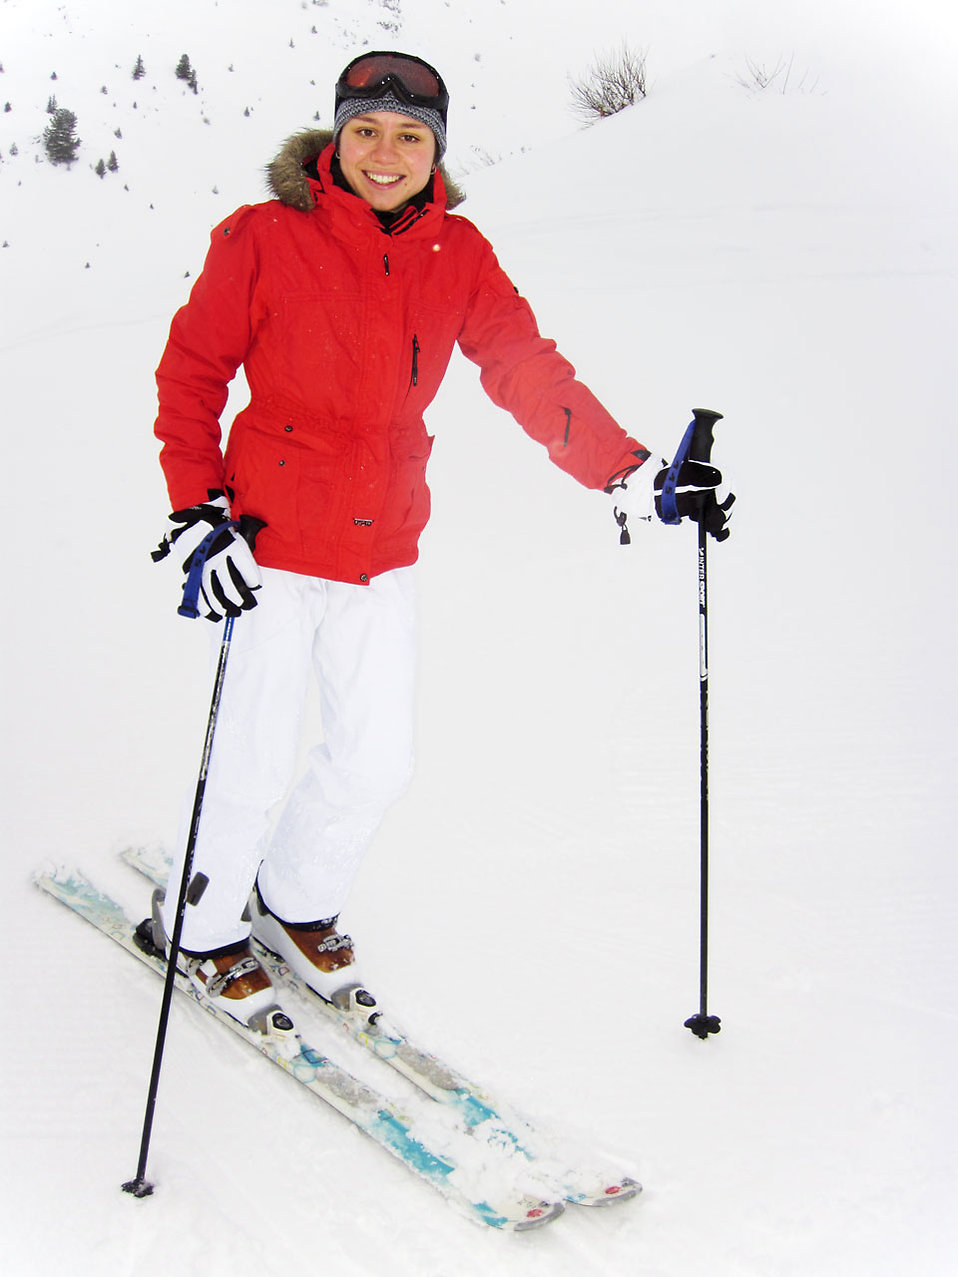skier: (30, 50, 727, 1225)
